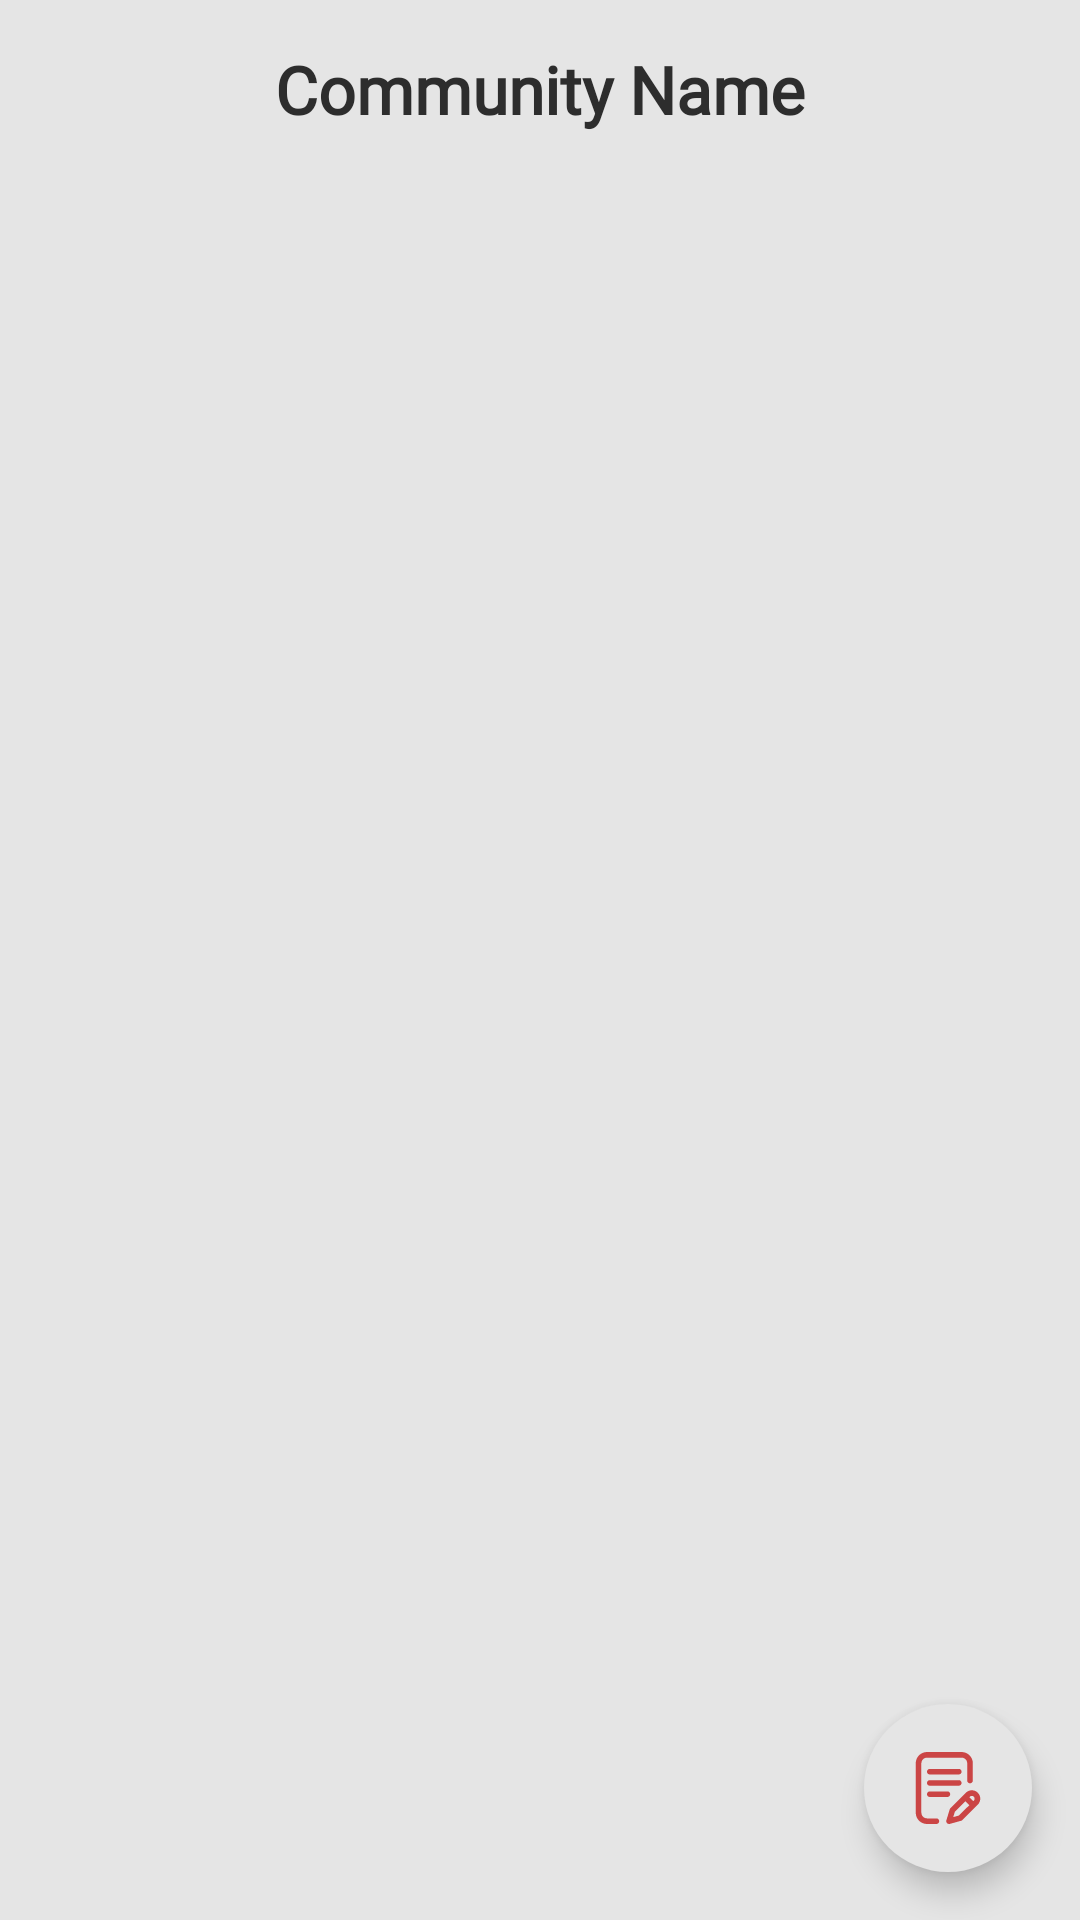

Icon bounding boxes for this 1080px×1920px phone screenshot, format [x1, y1, x2, y2]:
writing: [874, 1752, 981, 1832]
